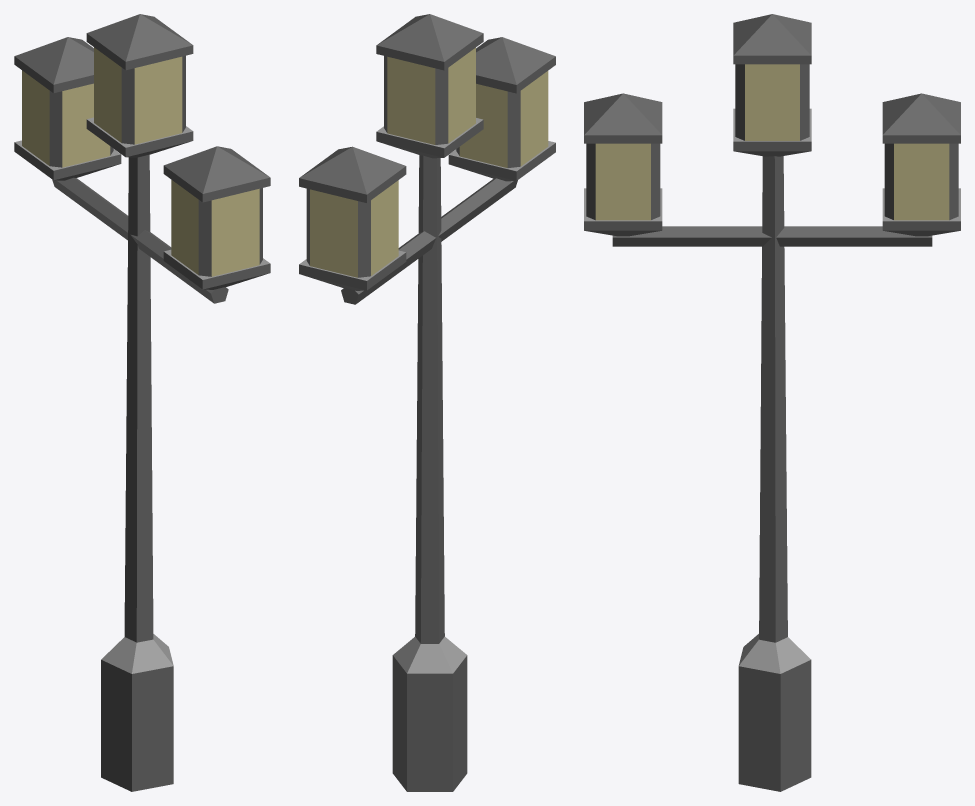
The model's file is pillar_009.glb.
3 renders of one model, left to right at view 1: azimuth 30°, elevation 25°; view 2: azimuth 150°, elevation 25°; view 3: azimuth 270°, elevation 25°, orthographic.
Visible parts, largest first — view 1: pillar_009; view 2: pillar_009; view 3: pillar_009.
Boxes of the visible parts, box(x1,y1,x2,y2) form: pillar_009: box(14, 14, 270, 791); pillar_009: box(299, 14, 555, 791); pillar_009: box(584, 14, 960, 791).
Size of the model in its own units: 0.3348 by 3.47 by 1.56.
1 material, 1 textured.
